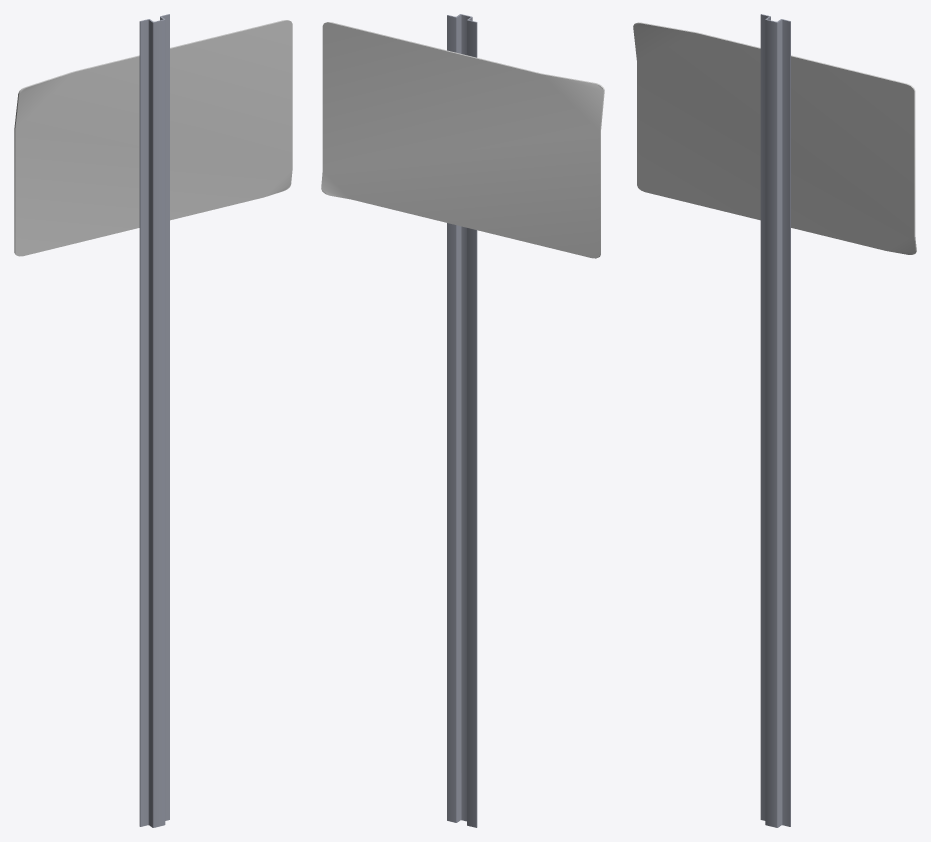
The model's file is sign_metal_h.fbx.
3 renders of one model, left to right at view 1: azimuth 30°, elevation 25°; view 2: azimuth 150°, elevation 25°; view 3: azimuth 330°, elevation 25°, orthographic.
Visible parts, largest first — view 1: sign-H; view 2: sign-H; view 3: sign-H.
Boxes of the visible parts, box(x1,y1,x2,y2) form: sign-H: box(14, 14, 292, 827); sign-H: box(321, 14, 604, 827); sign-H: box(633, 14, 916, 827).
Bounding box in the file's own units: 108 × 300 × 5.
Materials: 3 (1 with a texture image).
